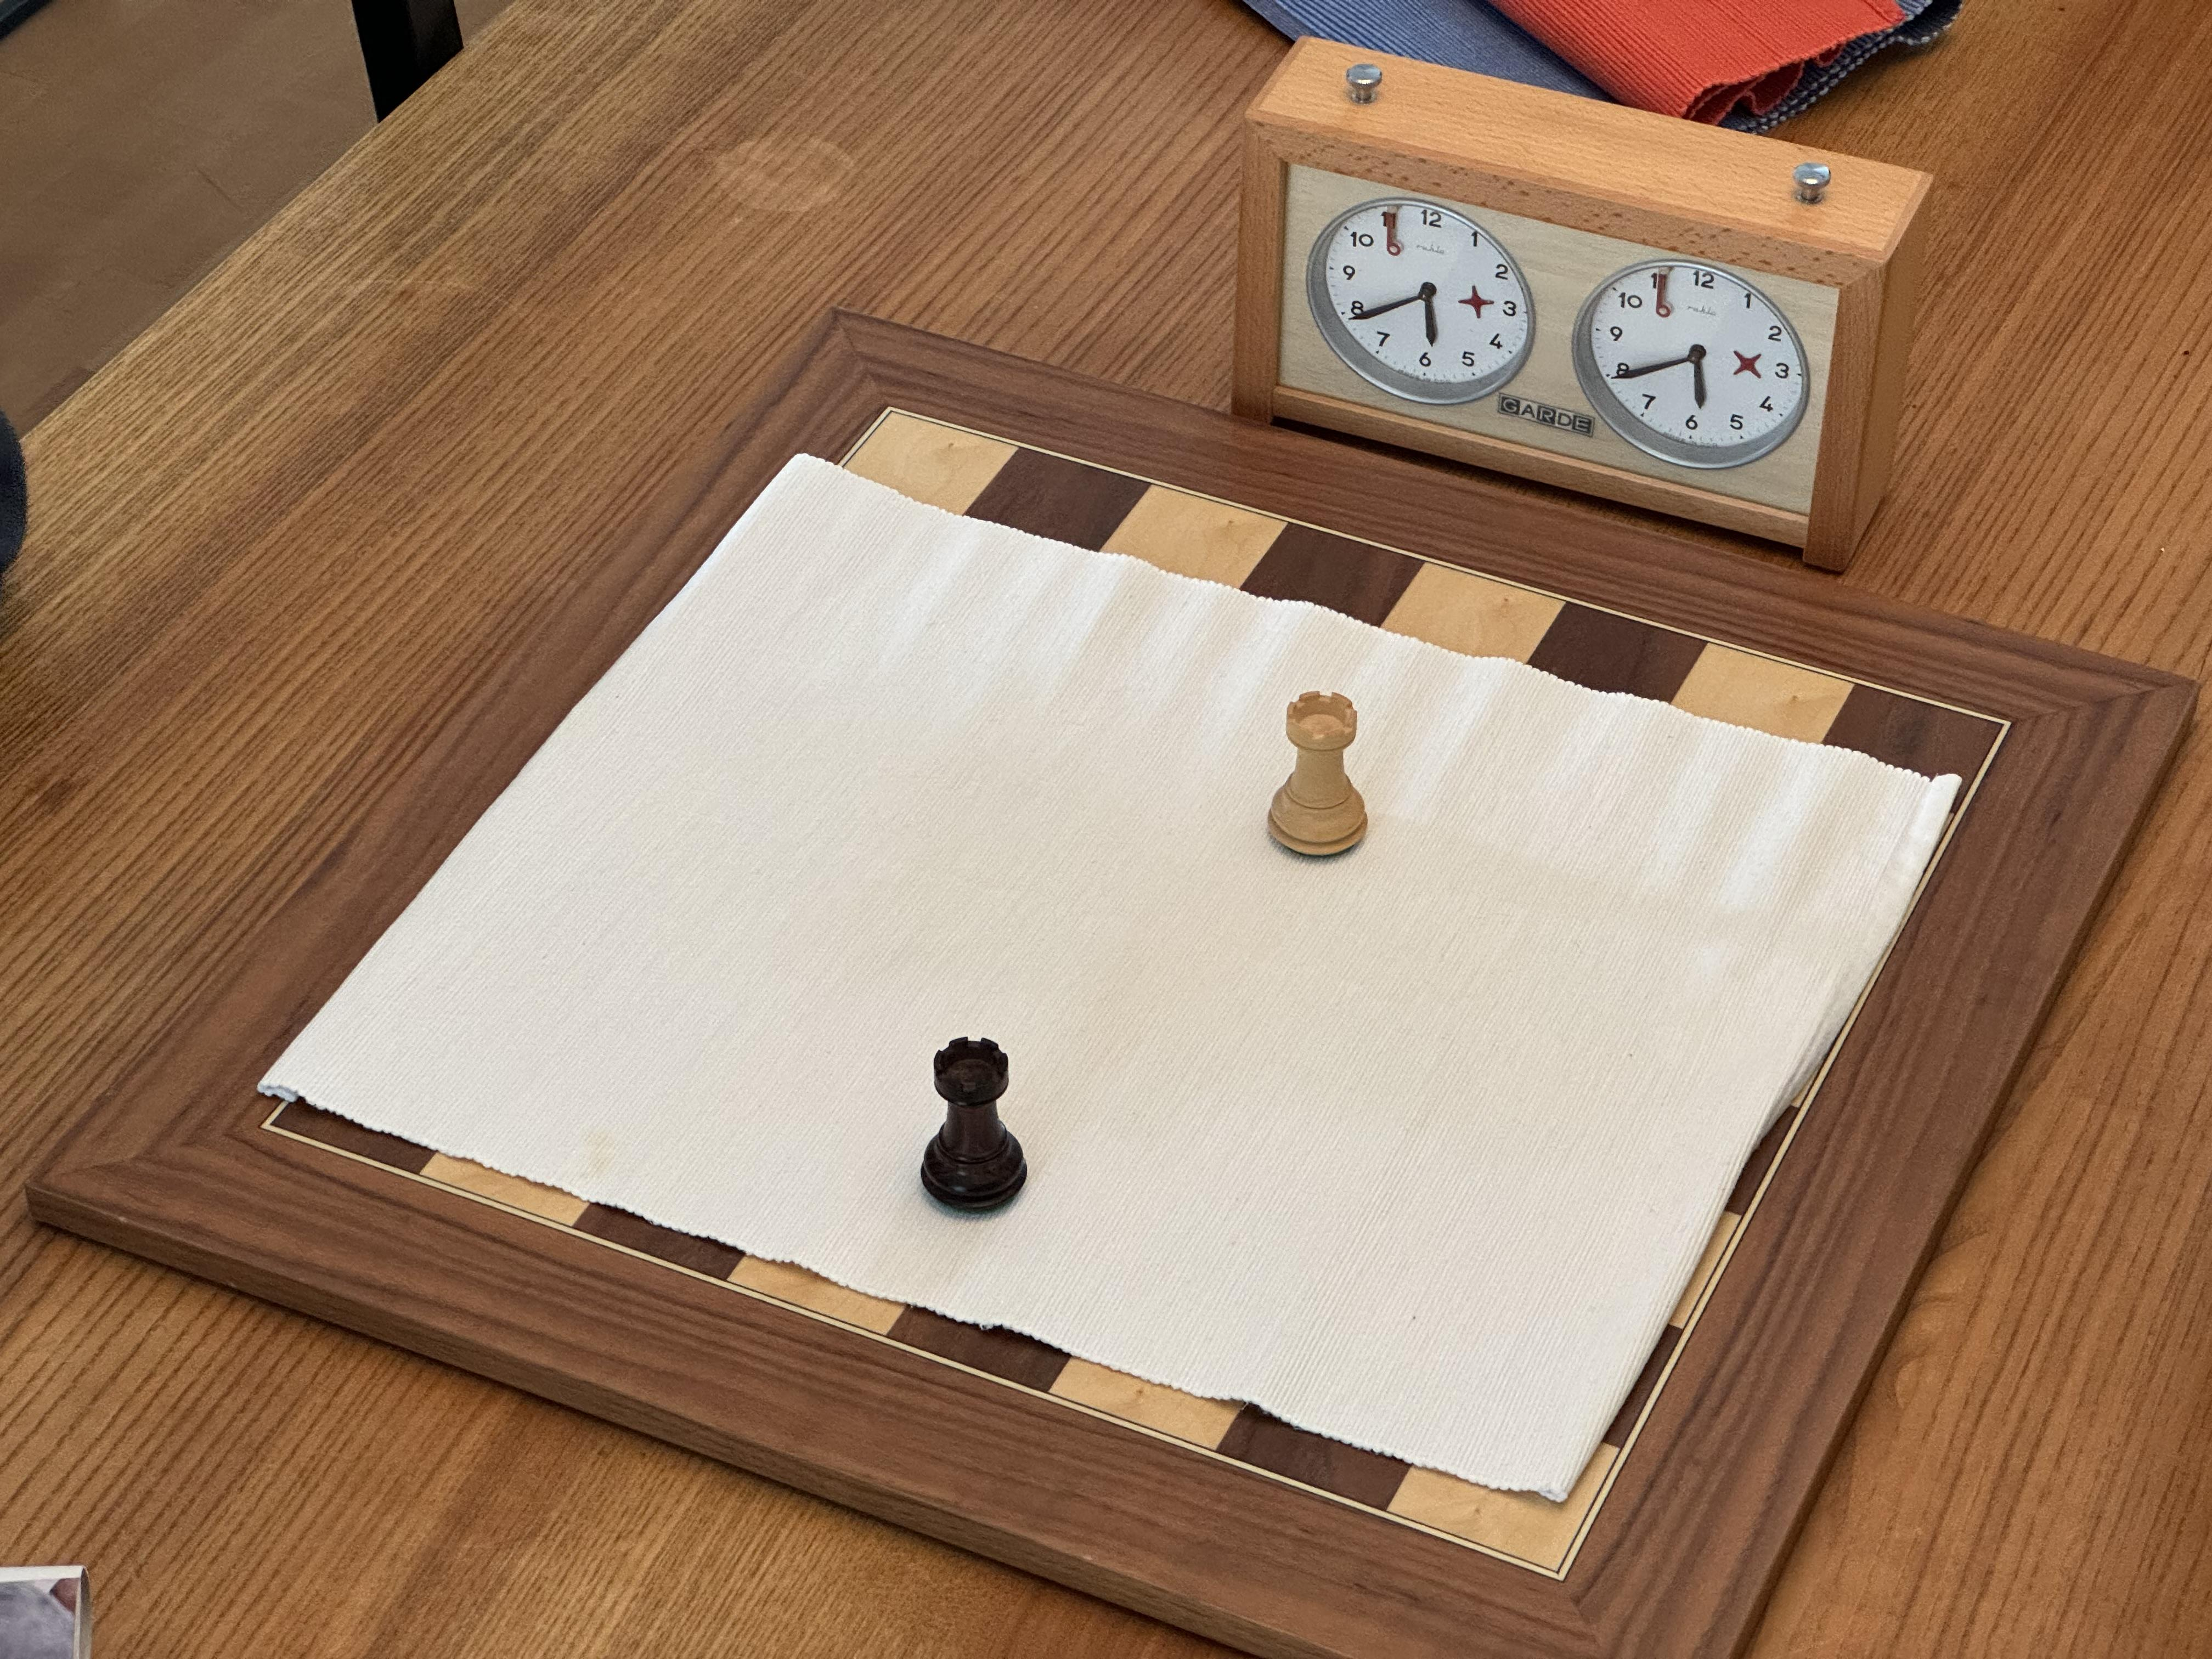Black Rook: (904, 1023, 1047, 1227)
White Rook: (1249, 676, 1385, 889)
